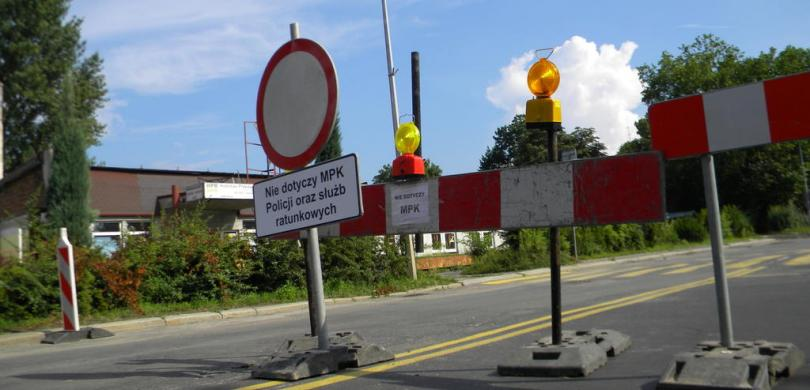no_entry_sign: (256, 39, 338, 168)
